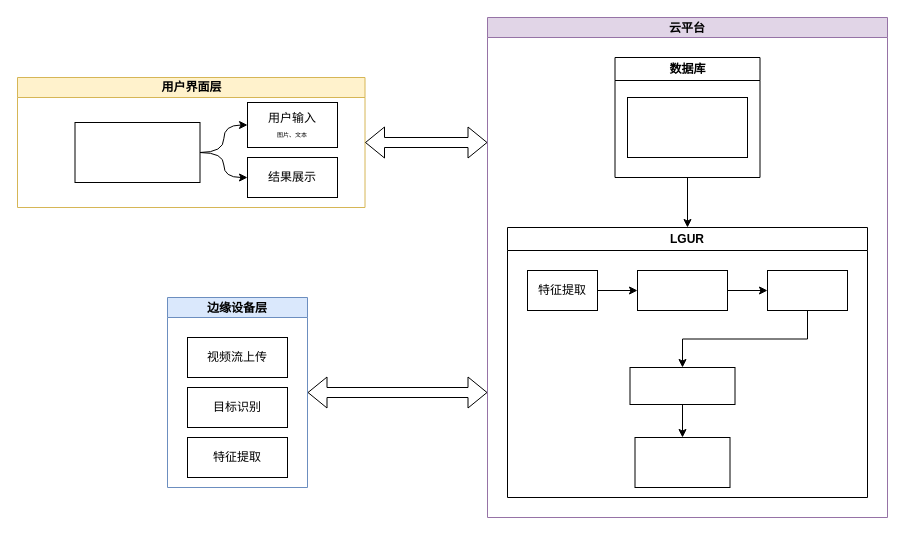
The diagram is 905 pixels wide and 535 high, and some of its shapes have lost their labels. Here are the shapes that lost their labels. From the top down, the centre of each, then its label:
At pixel 687 127: "行人特征向量".
At pixel 137 152: "前端界面".
At pixel 682 290: "基于词典的粒度对齐模块".
At pixel 807 290: "基于原型的粒度统一模块".
At pixel 682 385: "余弦相似度计算".
At pixel 682 462: "对比得出结果".
